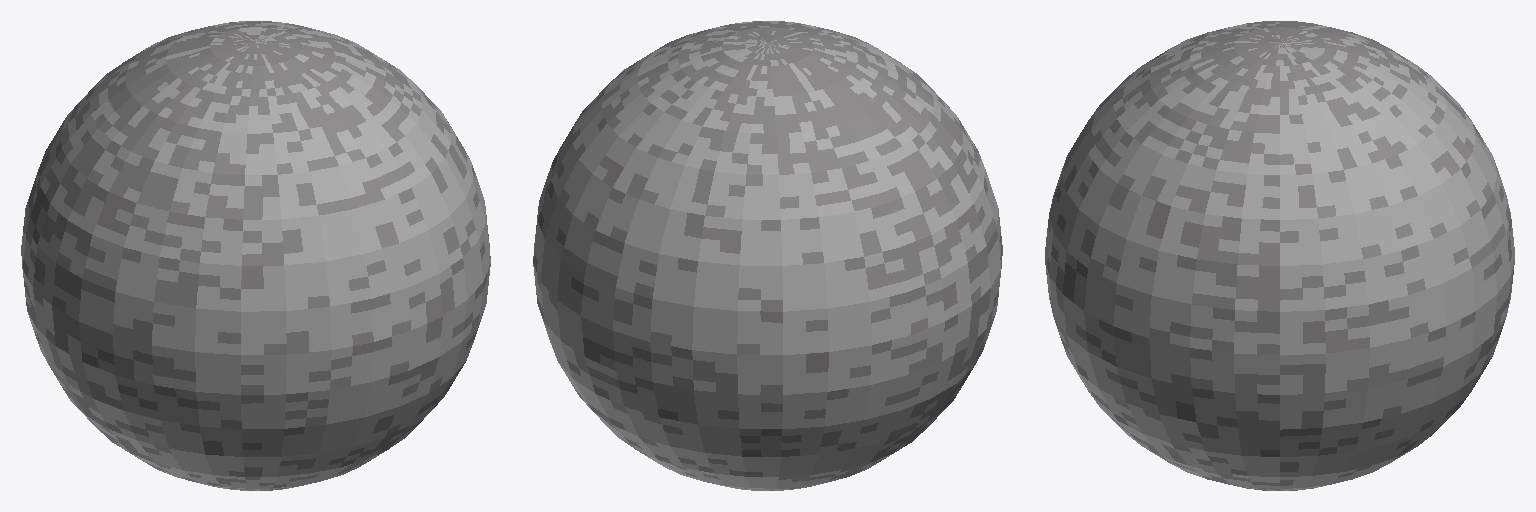
3 views of the same model, side by side, from view 1: azimuth 30°, elevation 25°; view 2: azimuth 150°, elevation 25°; view 3: azimuth 270°, elevation 25° (orthographic).
Parts seen in each view (by area): view 1: 球; view 2: 球; view 3: 球.
Part boxes in pixels (x1,y1,x2,y2): 球: (21,21,490,490); 球: (533,21,1002,490); 球: (1045,21,1514,490).
Bounding box in the file's own units: 2 × 2 × 2.
Materials: 1 (1 with a texture image).